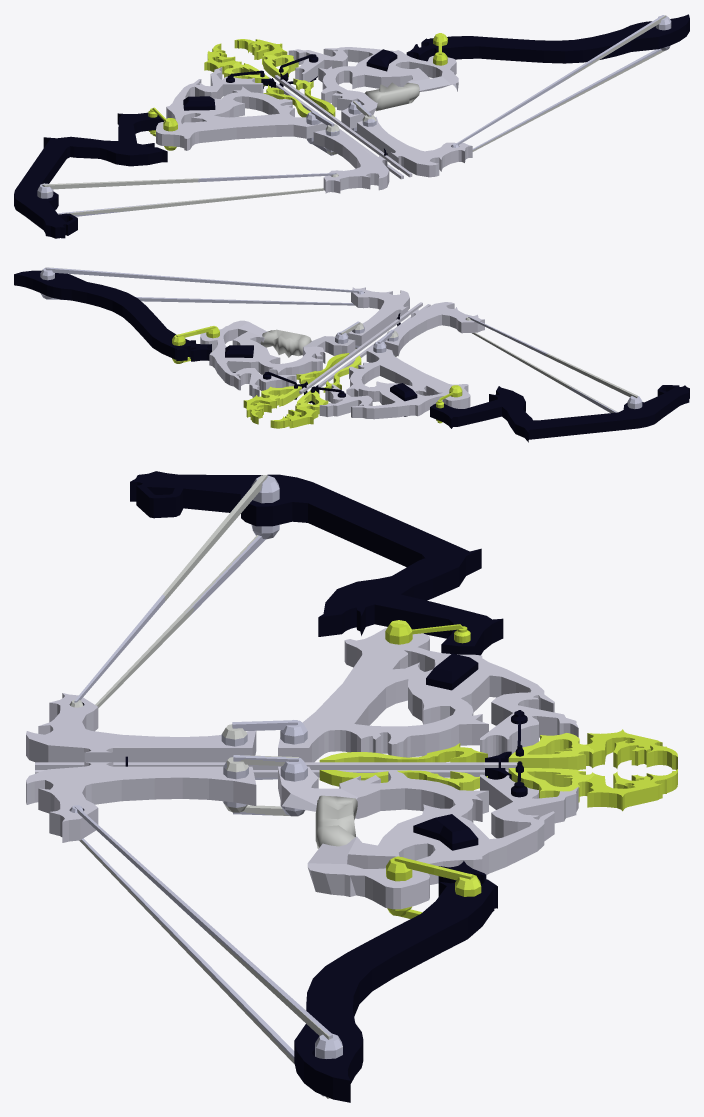
File: new-yumi.glb
3 views of the same model, one above another, from view 1: azimuth 30°, elevation 25°; view 2: azimuth 150°, elevation 25°; view 3: azimuth 270°, elevation 25° (orthographic). The views are drawn at different scales.
Parts seen in each view (by area): view 1: mesh; view 2: mesh; view 3: mesh.
Boxes of the visible parts, x1,y1,x2,y2 form: mesh: [14, 14, 689, 238]; mesh: [14, 267, 689, 442]; mesh: [26, 471, 677, 1102].
Size of the model in its own units: 4.95 by 0.2377 by 2.23.
Materials: 1 (1 with a texture image).
